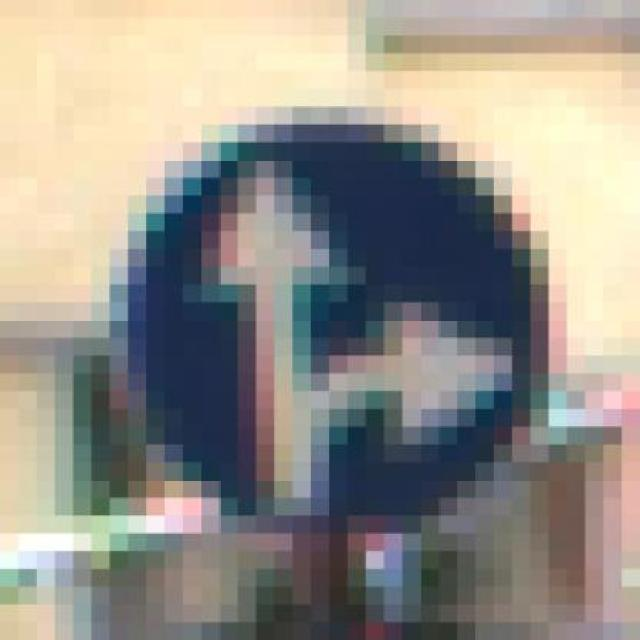Go Straight or Turn Right: (92, 106, 586, 569)
